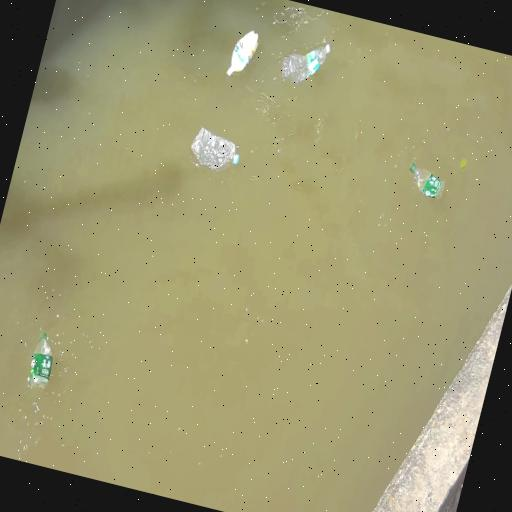plastic: (186, 124, 246, 178), (281, 44, 330, 85), (227, 31, 258, 76), (27, 333, 52, 388), (410, 163, 444, 199)
